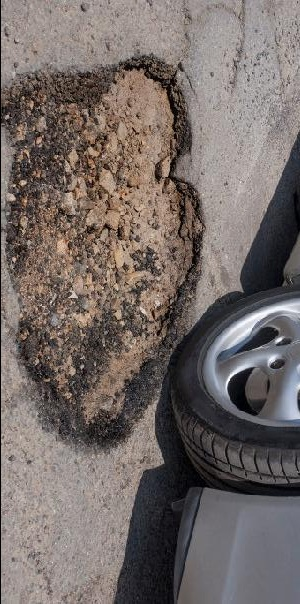pothole: (2, 51, 207, 452)
